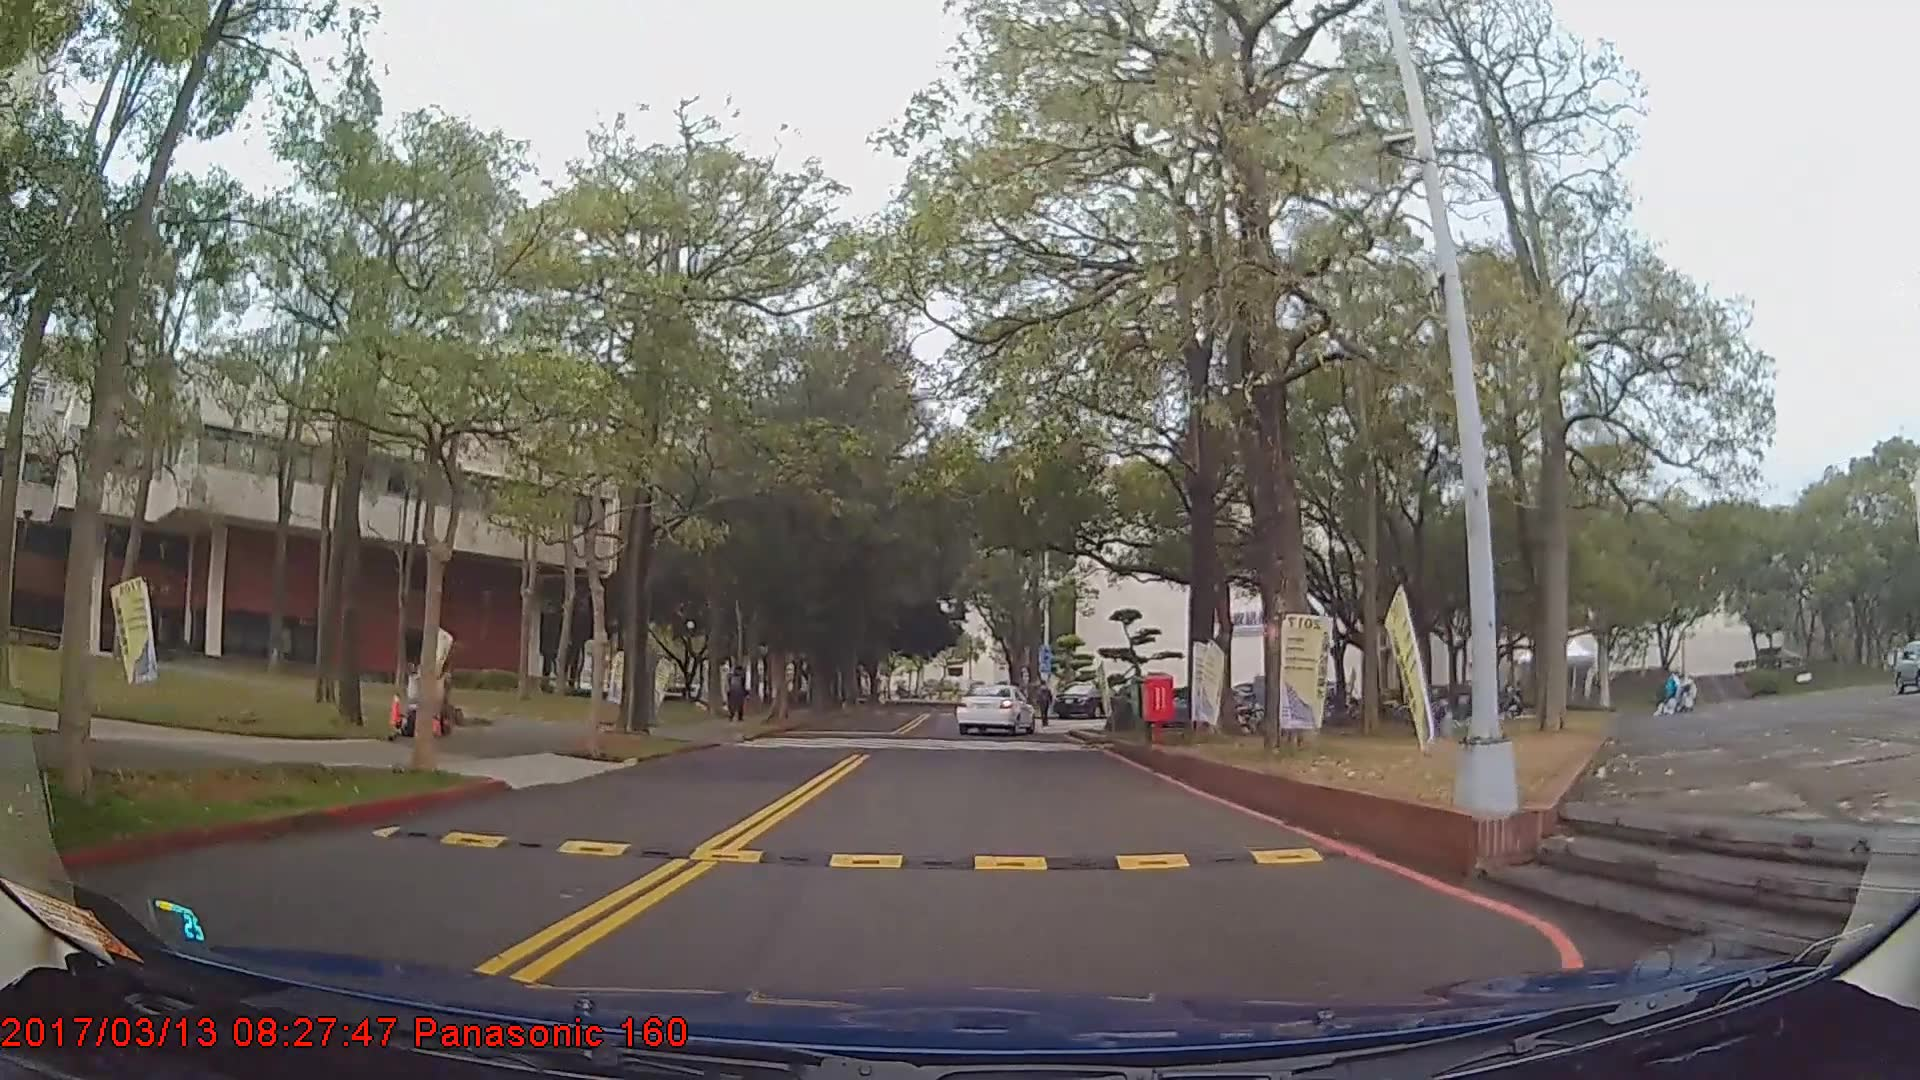pedestrian: (725, 661, 754, 729)
vehicle: (955, 682, 1036, 737), (1055, 684, 1116, 720)
